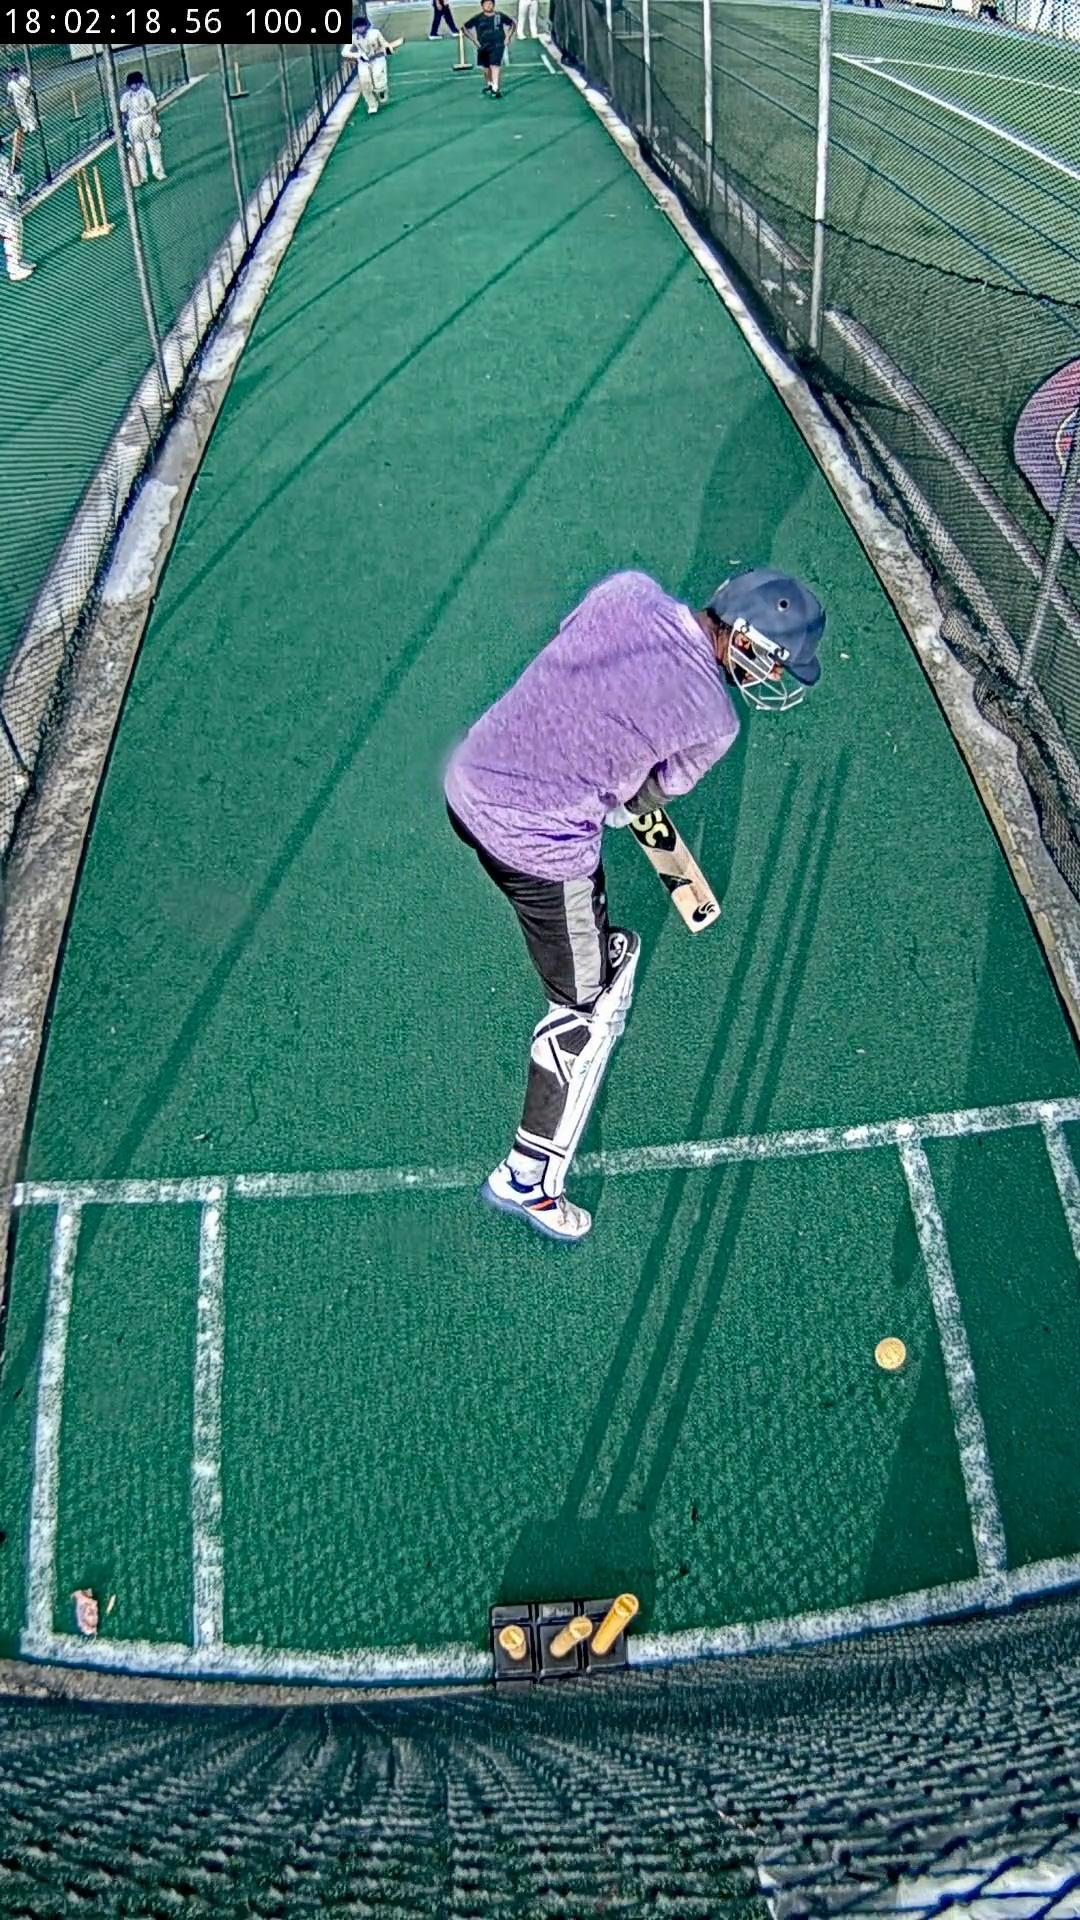ball: (874, 1338, 907, 1373)
bat: (630, 810, 720, 934)
helmet: (708, 566, 825, 684)
pads: (543, 930, 641, 1196)
stumps: (488, 1594, 637, 1684)
